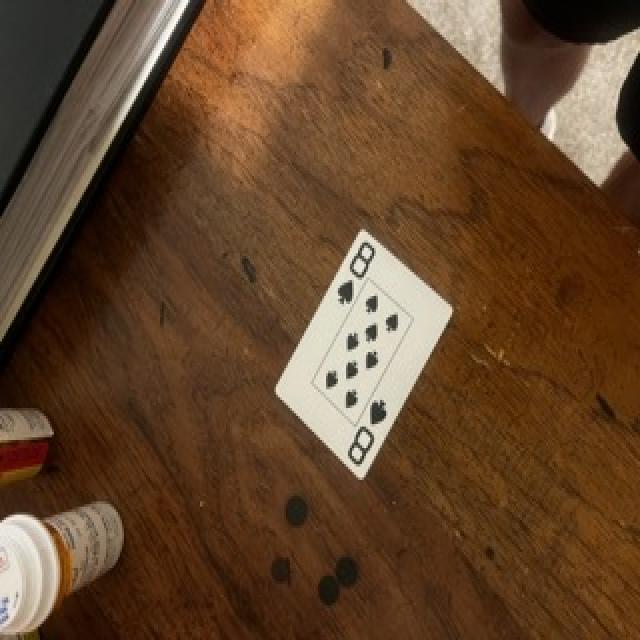8 of spades: (278, 230, 452, 478)
